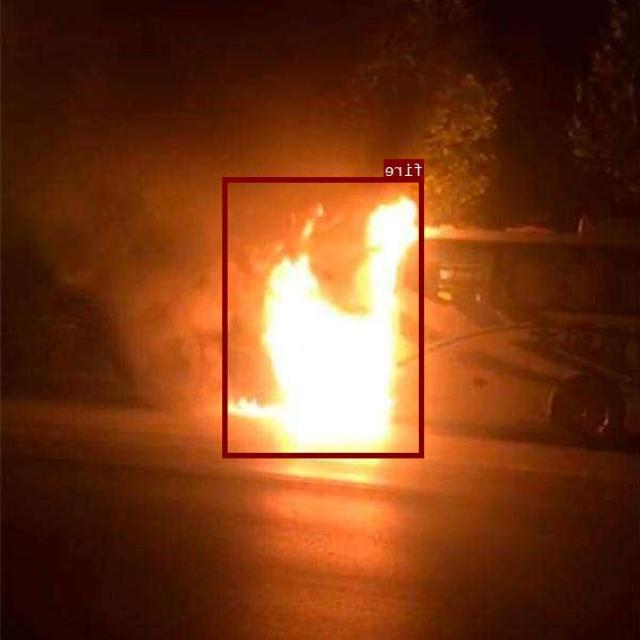fire: (223, 176, 425, 457)
